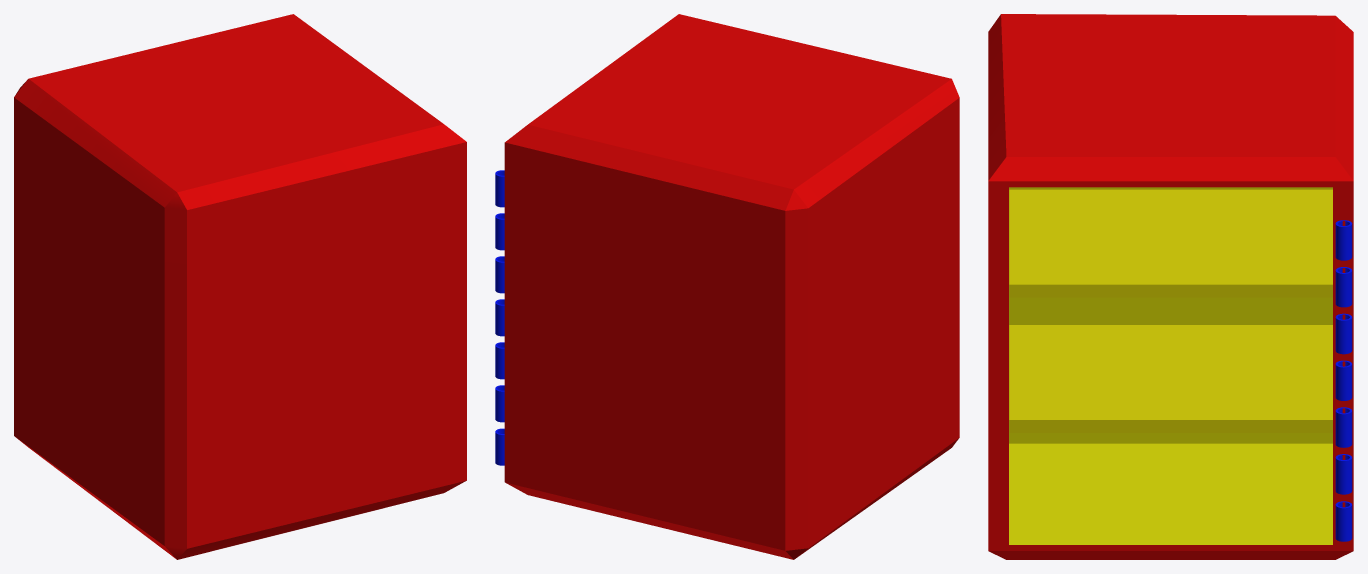
The model's file is SM_coffre 1.fbx.
3 renders of one model, left to right at view 1: azimuth 30°, elevation 25°; view 2: azimuth 150°, elevation 25°; view 3: azimuth 270°, elevation 25°, orthographic. The views are drawn at different scales.
Visible parts, largest first — view 1: polySurface1; view 2: polySurface1; view 3: polySurface1.
Part boxes in pixels (<box>): polySurface1: <box>14,14,466,559</box>; polySurface1: <box>495,14,959,559</box>; polySurface1: <box>988,14,1353,559</box>.
Bounding box in the file's own units: 87.11 × 100 × 82.19.
